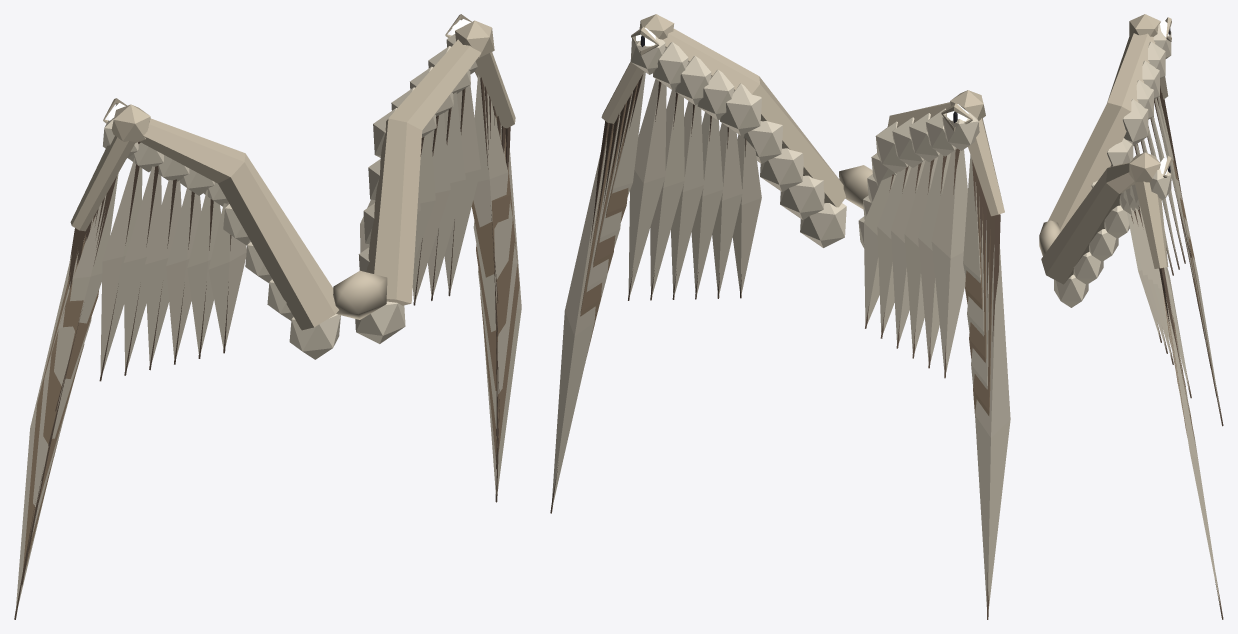
File: wings-1.glb
3 views of the same model, side by side, from view 1: azimuth 30°, elevation 25°; view 2: azimuth 150°, elevation 25°; view 3: azimuth 270°, elevation 25° (orthographic). The views are drawn at different scales.
Visible parts, largest first — view 1: wing_r, wing_l, root; view 2: wing_l, wing_r, root; view 3: wing_l, wing_r, root.
Part boxes in pixels (box(x1,y1,x2,y2)): wing_r: box(14, 104, 340, 619); wing_l: box(355, 20, 521, 502); root: box(333, 270, 387, 319); wing_l: box(550, 14, 846, 513); wing_r: box(858, 90, 1010, 619); root: box(839, 165, 872, 209); wing_l: box(1041, 152, 1223, 619); wing_r: box(1048, 14, 1223, 426); root: box(1039, 220, 1060, 255).
Size of the model in its own units: 1.14 by 1.19 by 0.4498.
